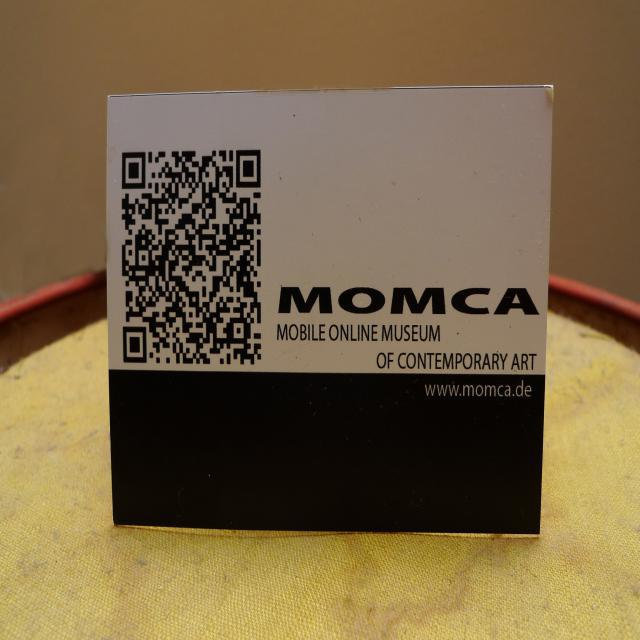qrcode: (123, 151, 262, 366)
